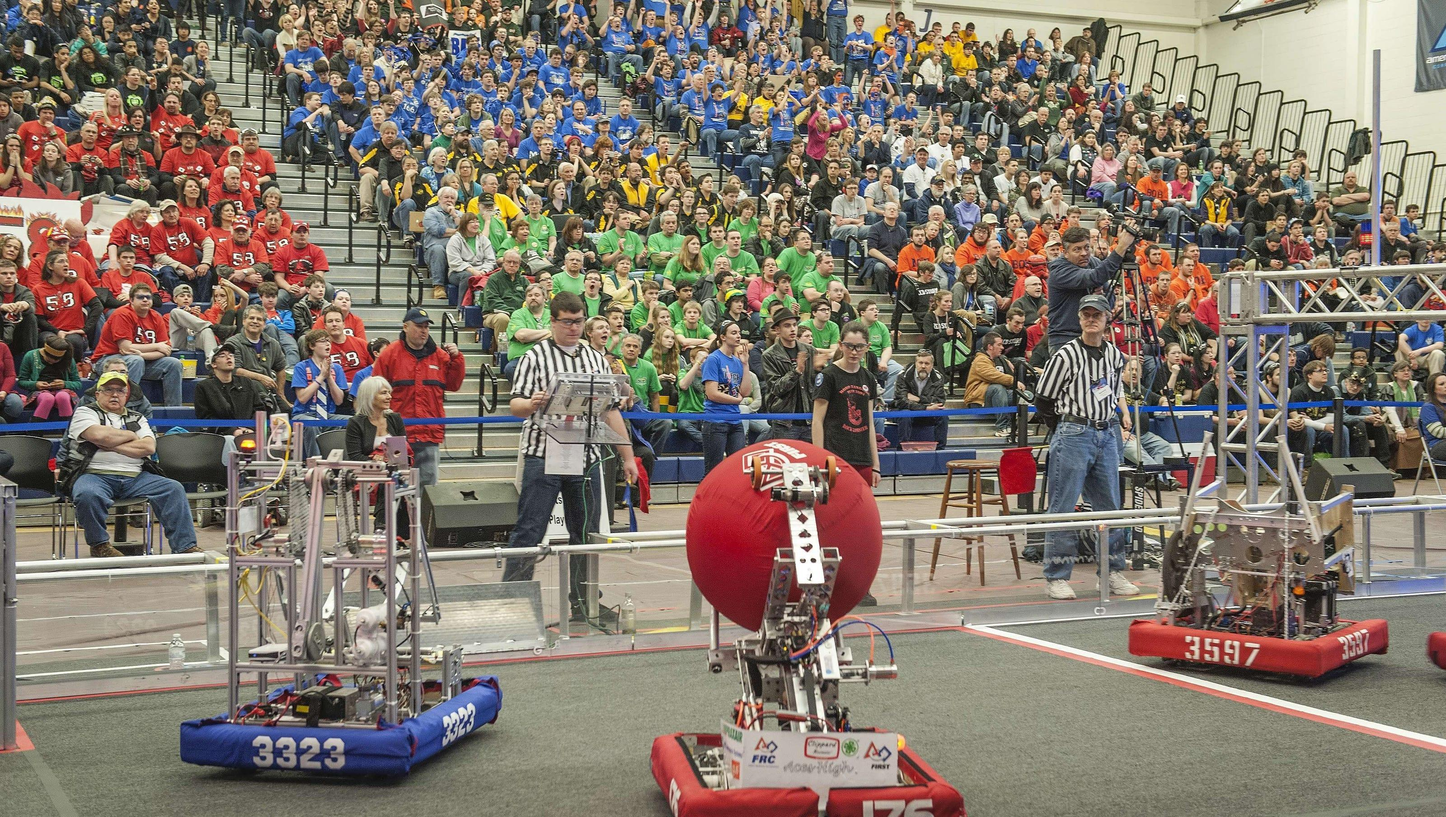robot: (633, 434, 970, 817), (180, 410, 507, 788), (1120, 408, 1394, 691)
